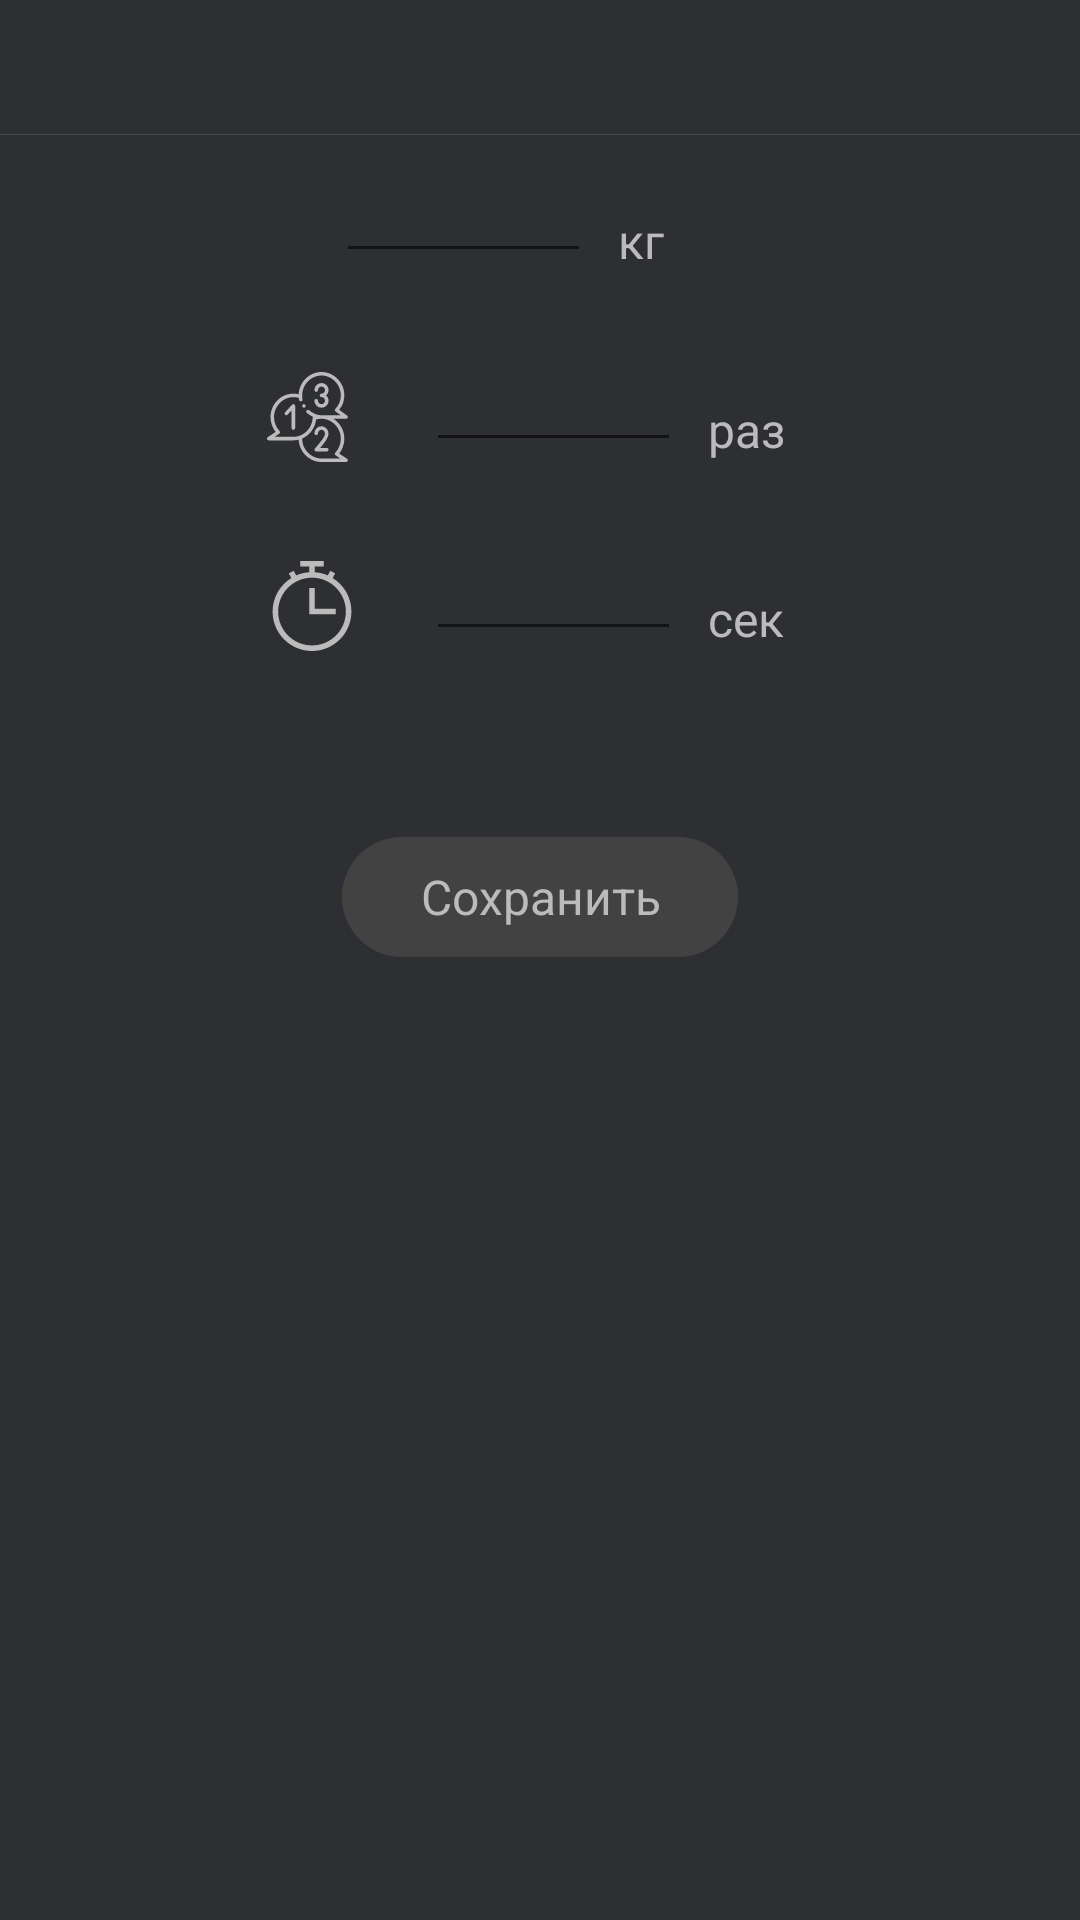

Point at icon controls on the screen. Image size 1080*1920, points as [x,y].
timer: [312,606]
